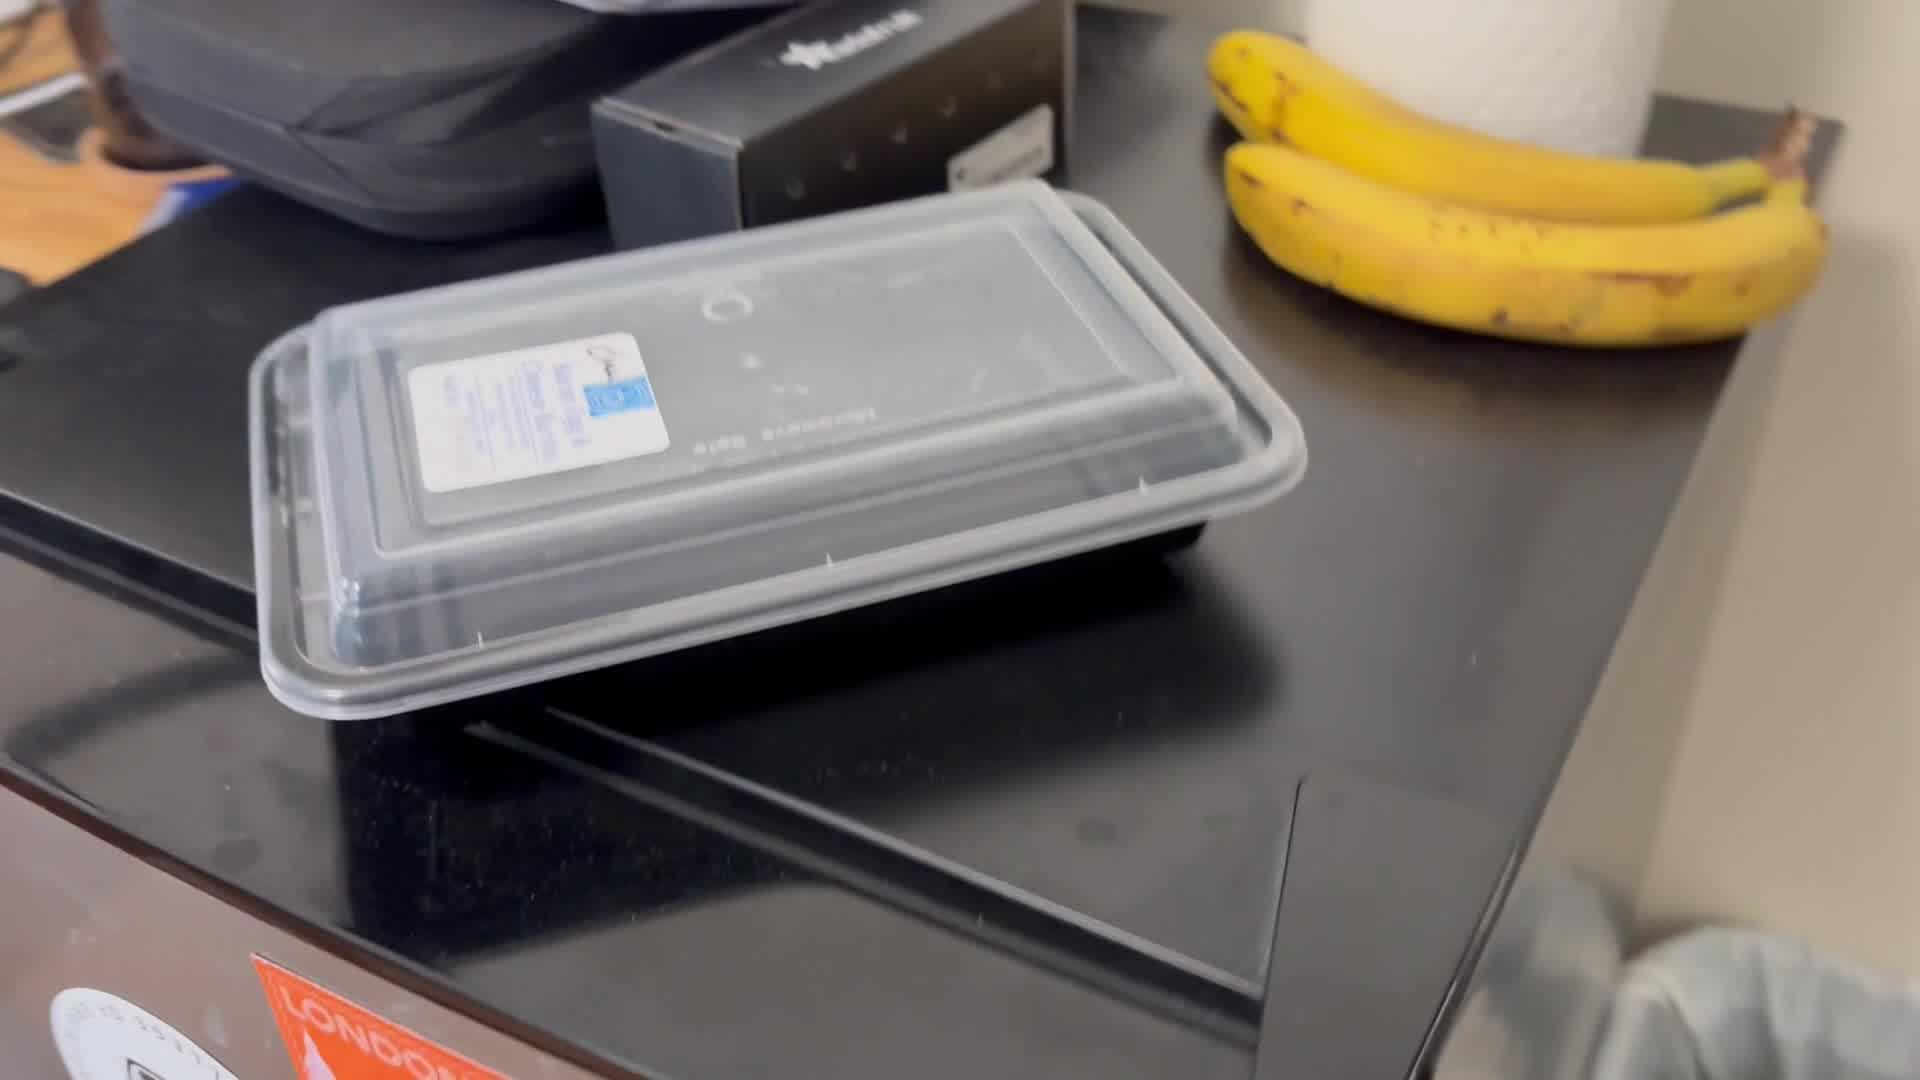lp_cup_lids: (243, 178, 1317, 729)
